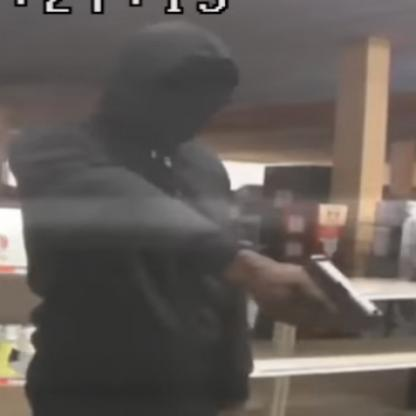weapon: (303, 251, 385, 332)
